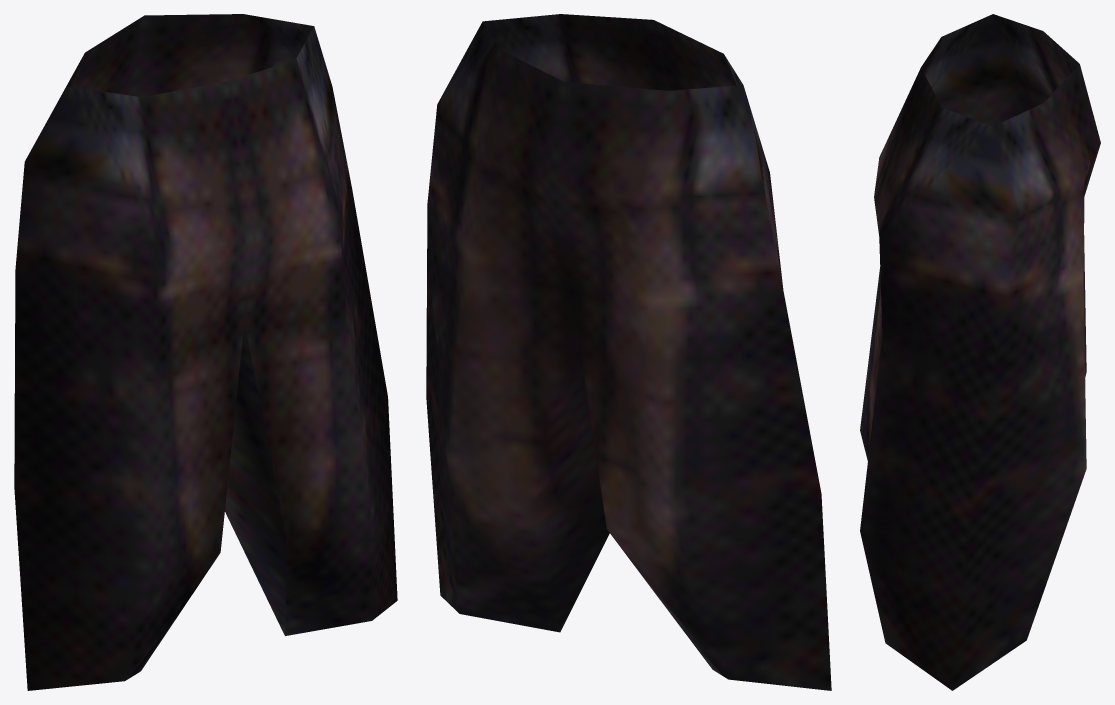
The model's file is 0_kn_pants_17.obj.
The picture shows the model from 3 angles, left to right: view 1: azimuth 30°, elevation 25°; view 2: azimuth 150°, elevation 25°; view 3: azimuth 270°, elevation 25°; orthographic projection. The views are drawn at different scales.
Visible parts, largest first — view 1: defaultobject; view 2: defaultobject; view 3: defaultobject.
Boxes of the visible parts, left/top/right/bottom form: defaultobject: left=14, top=14, right=397, bottom=690; defaultobject: left=426, top=14, right=831, bottom=690; defaultobject: left=860, top=14, right=1100, bottom=690.
Size of the model in its own units: 12.52 by 18.83 by 7.48.
Materials: 1 (1 with a texture image).
